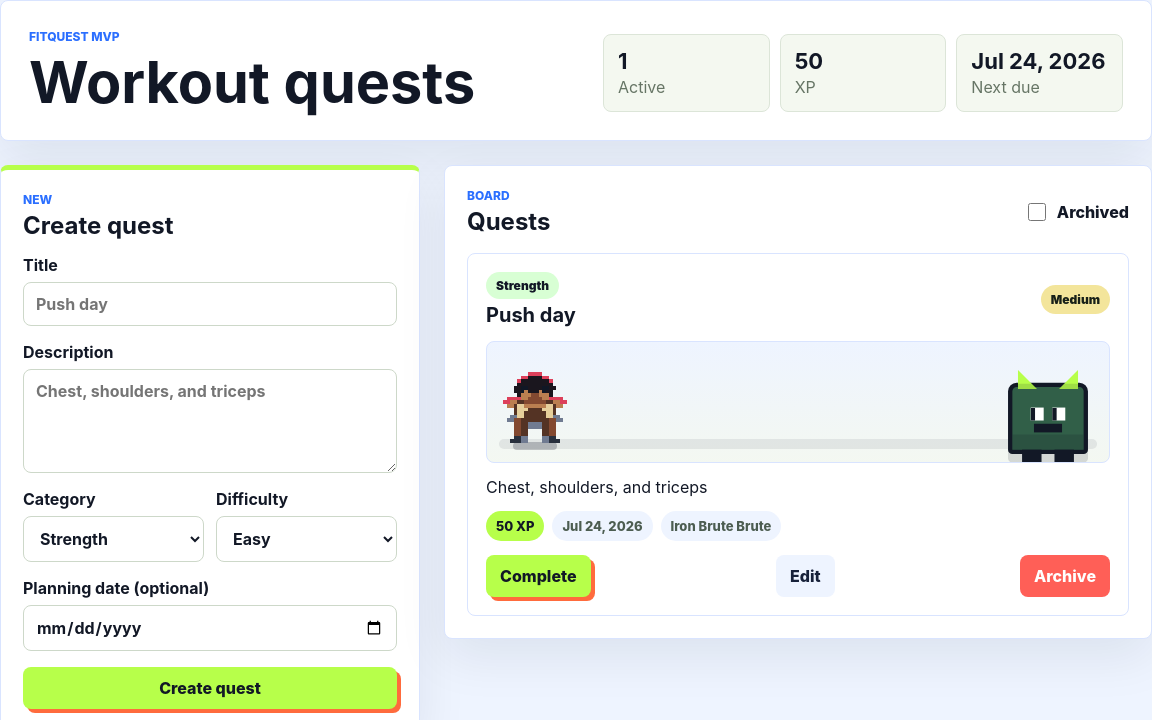
Scenario: Quests › creates a quest from the form
The image size is (1152, 720).
Check: the heading "Push day" is shown, box [486,303,576,327]
Type "Recovery walk" into the field labelled "Title". click: x=210, y=304
box: [23,282,397,326]
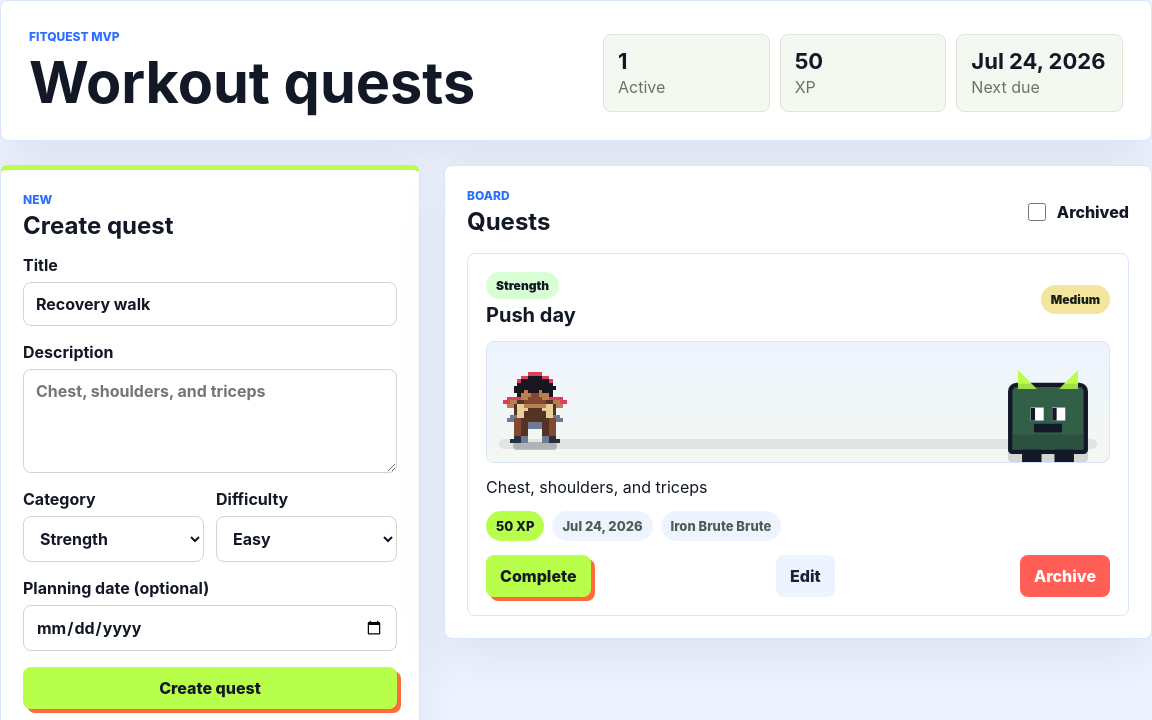
Type "Easy movement" into the text box labelled "Description". click: x=210, y=421
box: [23,369,397,473]
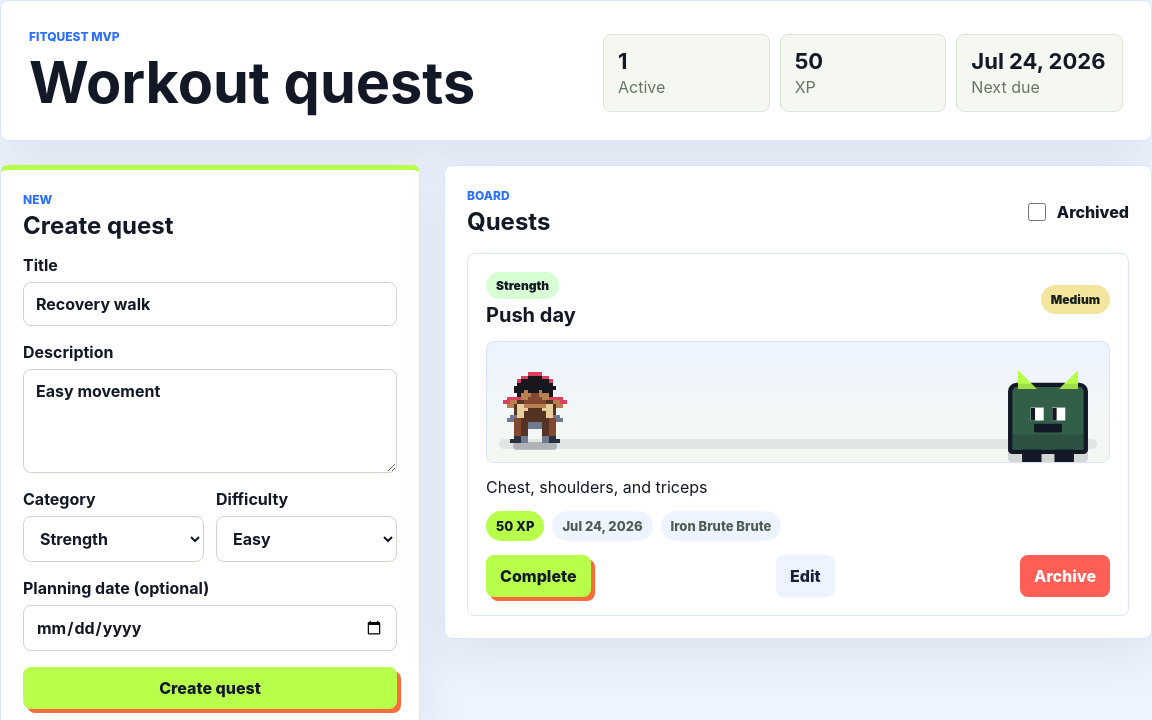
Select "Recovery" in the dropdown labelled "Category". click: x=114, y=539
box: [23,516,204,562]
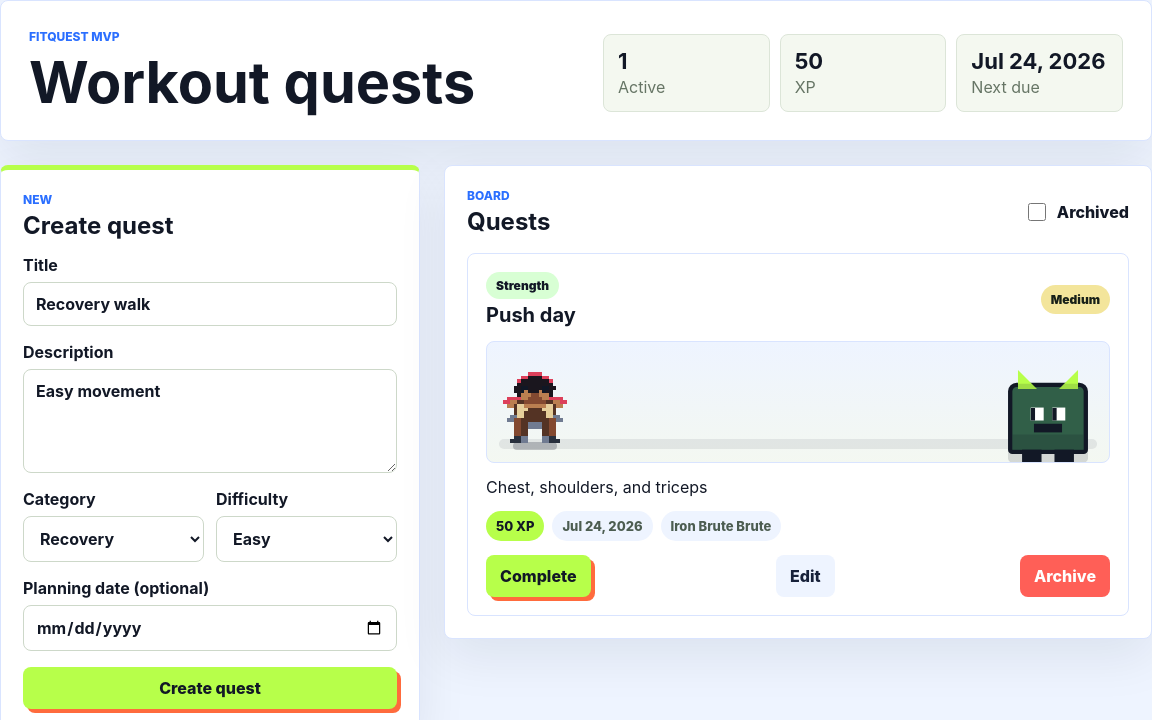
Select "Easy" in the dropdown labelled "Difficulty". click: x=306, y=539
box: [216,516,397,562]
Click the button "Create quest". click: x=210, y=688
box: [23,667,397,709]
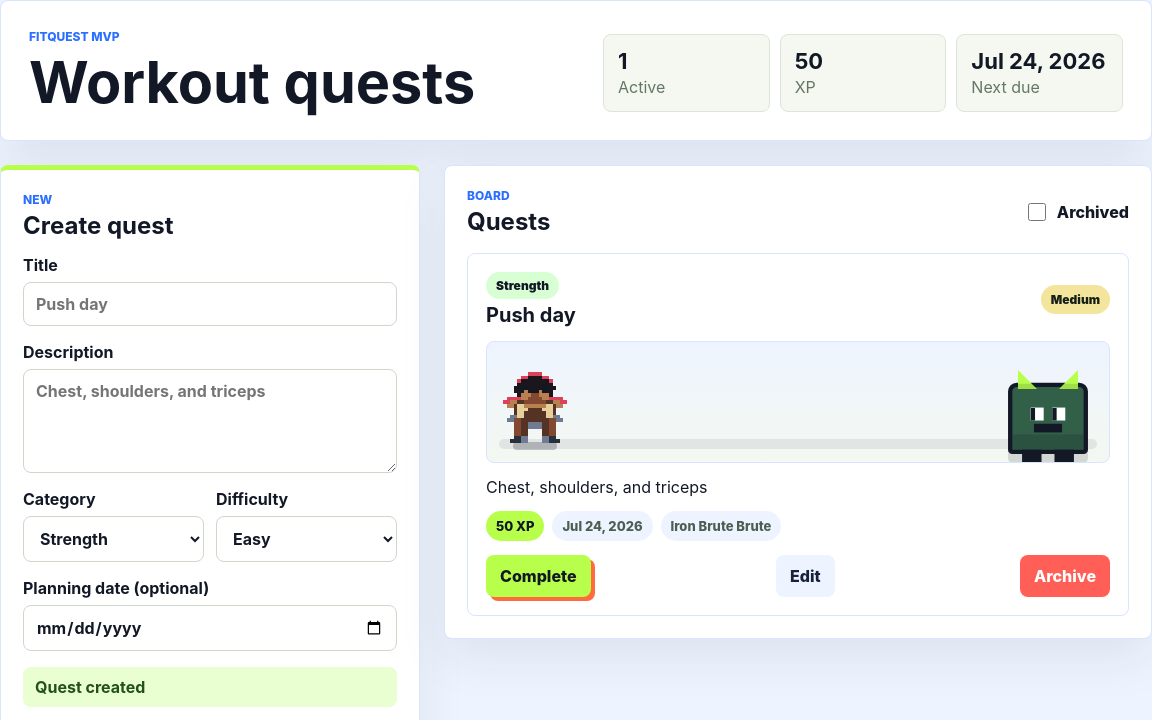
Check: the text "Quest created" is shown, box [23,667,397,707]
